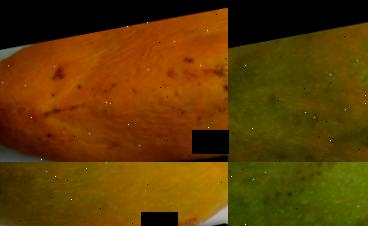PartiallyRipe: (228, 0, 368, 162), (0, 162, 228, 226)
Ripe: (0, 0, 228, 162)
Unripe: (228, 162, 368, 226)
